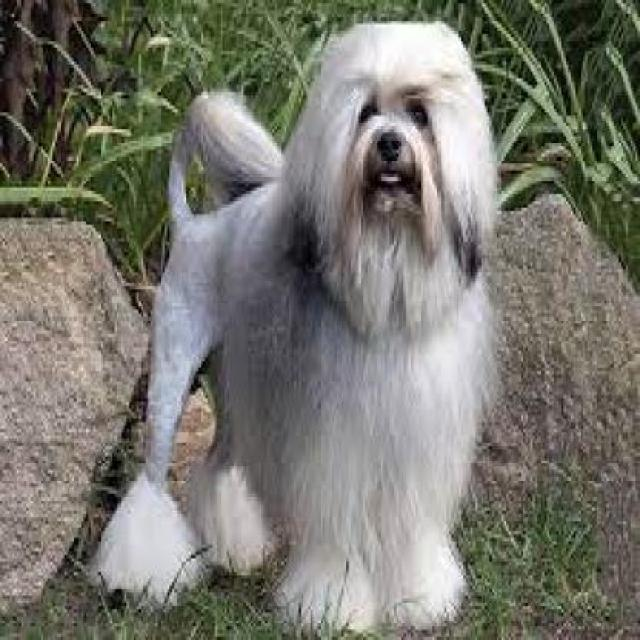animals: (110, 10, 508, 615)
